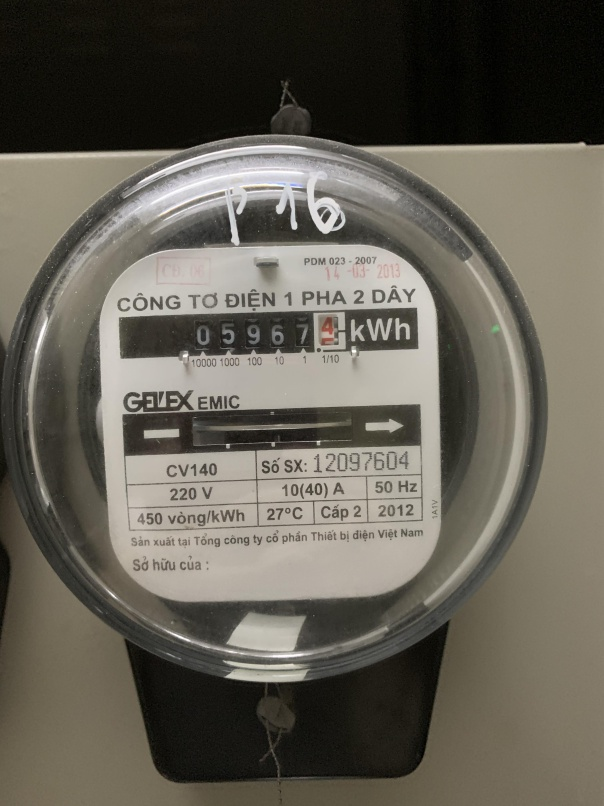counter: (118, 311, 425, 356)
electricity_meter: (12, 133, 548, 679)
